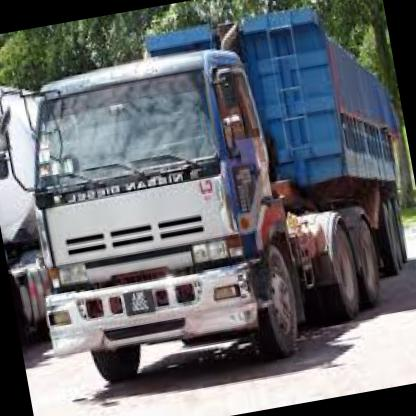truck: (5, 39, 308, 405)
